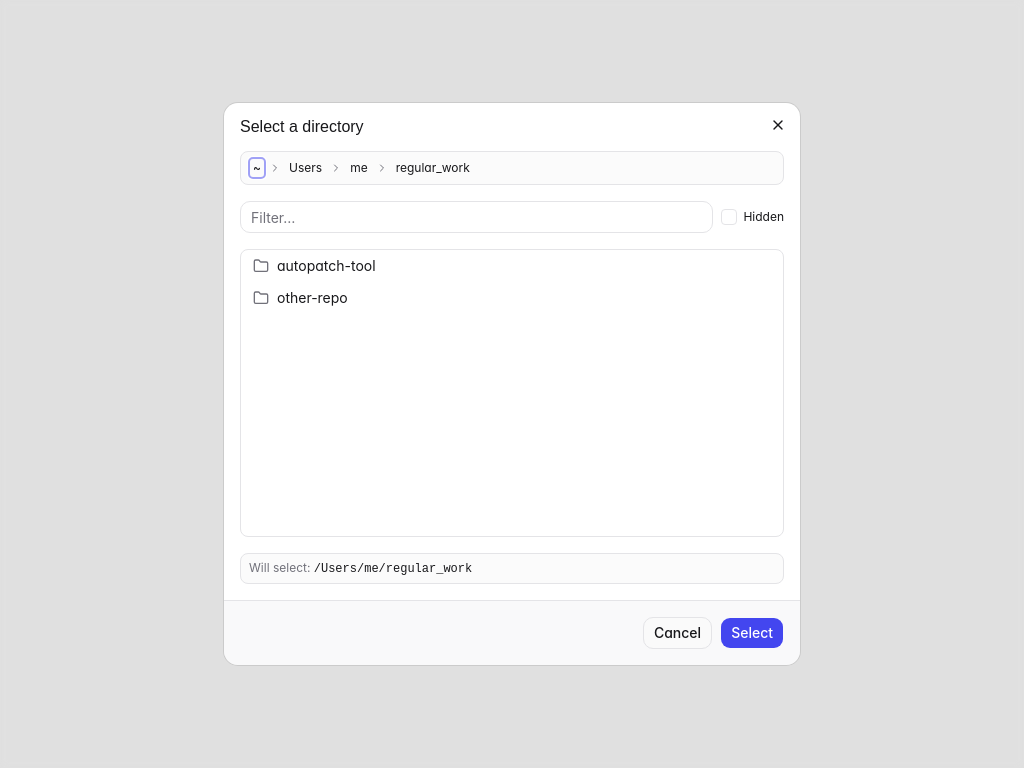
Test: DirectoryPicker component › footer preview shows the exact path Select will return
Expected: the text "autopatch-tool" is shown, [277, 256, 376, 276]
Expected: the element with test id "directory-picker-picked" shows "/Users/me/regular_work", [314, 562, 472, 576]
# After single click → preview updates to the highlighted child path.
Click the button "autopatch-tool".
click(326, 266)  # box [241, 250, 783, 282]
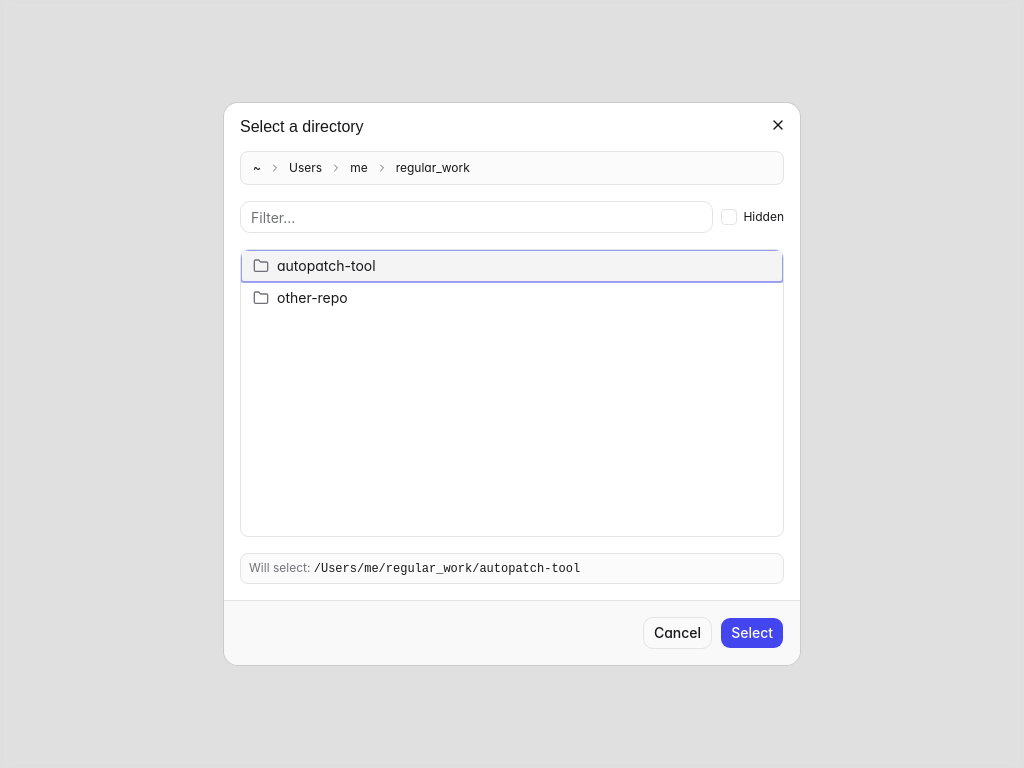
Expected: the element with test id "directory-picker-picked" shows "/Users/me/regular_work/autopatch-tool", [314, 562, 580, 576]
